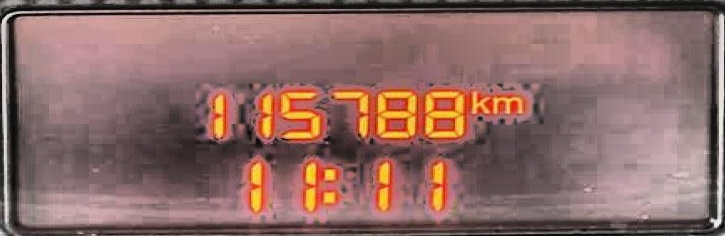1: (426, 159, 445, 210), (299, 158, 316, 211), (246, 159, 262, 213), (373, 158, 389, 211), (256, 91, 272, 137), (209, 91, 224, 138)
5: (276, 90, 321, 139)
7: (328, 89, 368, 136)
8: (373, 89, 416, 138), (421, 89, 463, 138)
X: (490, 95, 523, 114), (319, 168, 336, 204), (468, 89, 489, 114)
